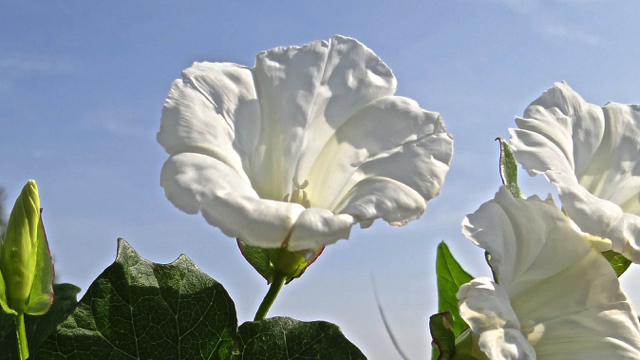haagwinde: (135, 28, 466, 304), (448, 55, 640, 360), (2, 159, 62, 324)
